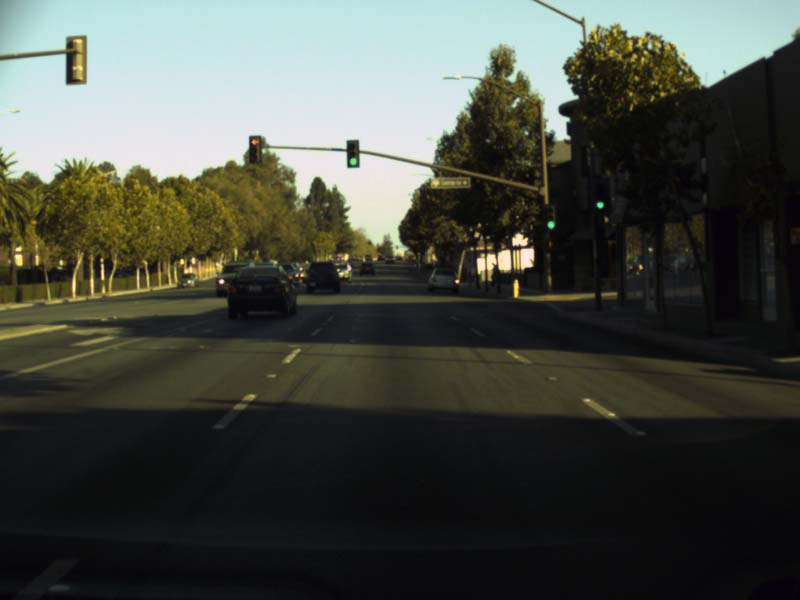Green: (588, 177, 610, 215), (346, 140, 358, 167), (545, 204, 555, 231)
Red: (248, 135, 261, 162)
